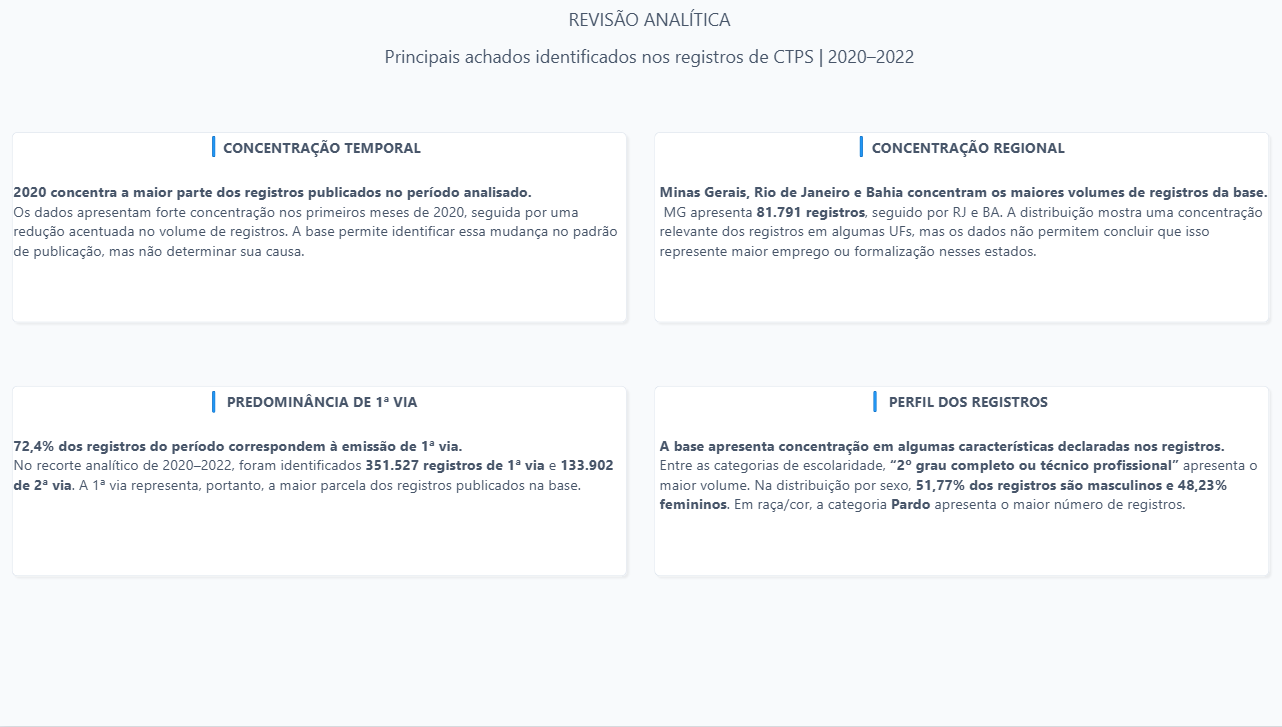

What the dashboard file says about the page in this screenshot:
{"tool":"powerbi","page":{"name":"Revisão Analítica","canvas":[1920,1080],"ordinal":3},"visuals":[{"type":"shape","box":[0,556,950,320],"z":0},{"type":"shape","box":[952,556,950,320],"z":1000},{"type":"shape","box":[952,180,950,320],"z":2000},{"type":"shape","box":[0,180,950,320],"z":3000},{"type":"textbox","box":[10,56,1910,70],"z":4000},{"type":"textbox","box":[10,0,1910,70],"z":5000},{"type":"textbox","box":[10,194,940,320],"z":6000},{"type":"textbox","box":[966,194,940,320],"z":7000},{"type":"textbox","box":[10,570,940,320],"z":8000},{"type":"textbox","box":[966,570,940,320],"z":9000},{"type":"shape","box":[303.3,193.3,30,55],"z":9001},{"type":"shape","box":[304,570,30,56],"z":9002},{"type":"shape","box":[1283.3,570,30,55],"z":9003},{"type":"shape","box":[1263.3,193.3,30,55],"z":9004}]}

Visuals, with their boxes in screenshot pixels (x1, y1, x2, y2), scaled from the page's 1920x1080 canvas onto the 1282x727 screenshot:
shape: (0,374,634,590)
shape: (636,374,1270,590)
shape: (636,121,1270,337)
shape: (0,121,634,337)
textbox: (7,38,1281,85)
textbox: (7,0,1281,47)
textbox: (7,131,634,346)
textbox: (645,131,1273,346)
textbox: (7,384,634,599)
textbox: (645,384,1273,599)
shape: (203,130,223,167)
shape: (203,384,223,421)
shape: (857,384,877,421)
shape: (844,130,864,167)
